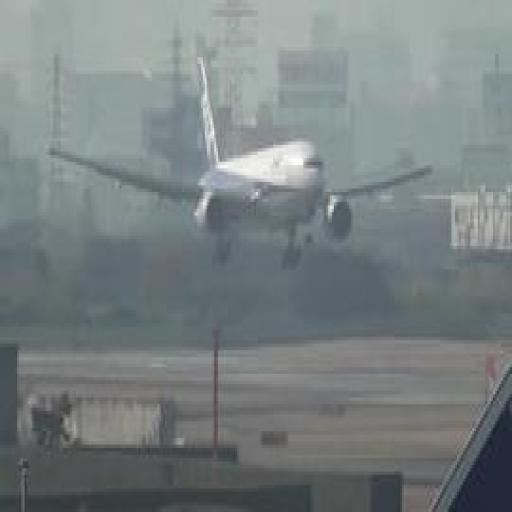aircraft: (51, 54, 434, 269)
